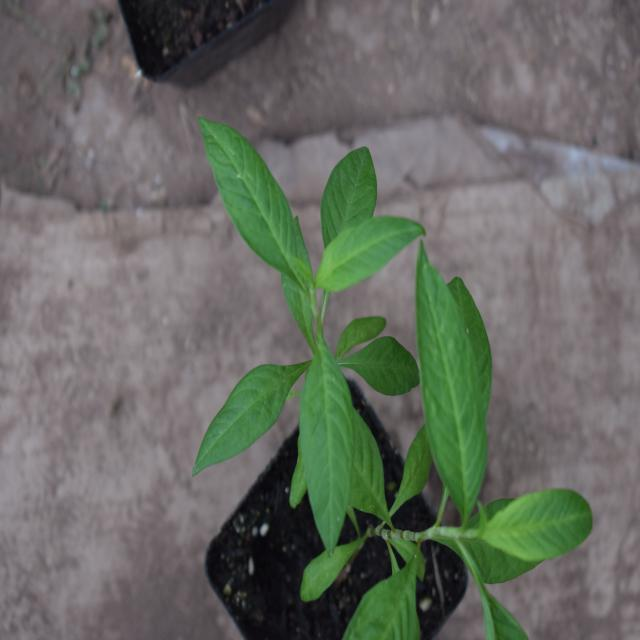white_smart_weed: (194, 109, 430, 517)
